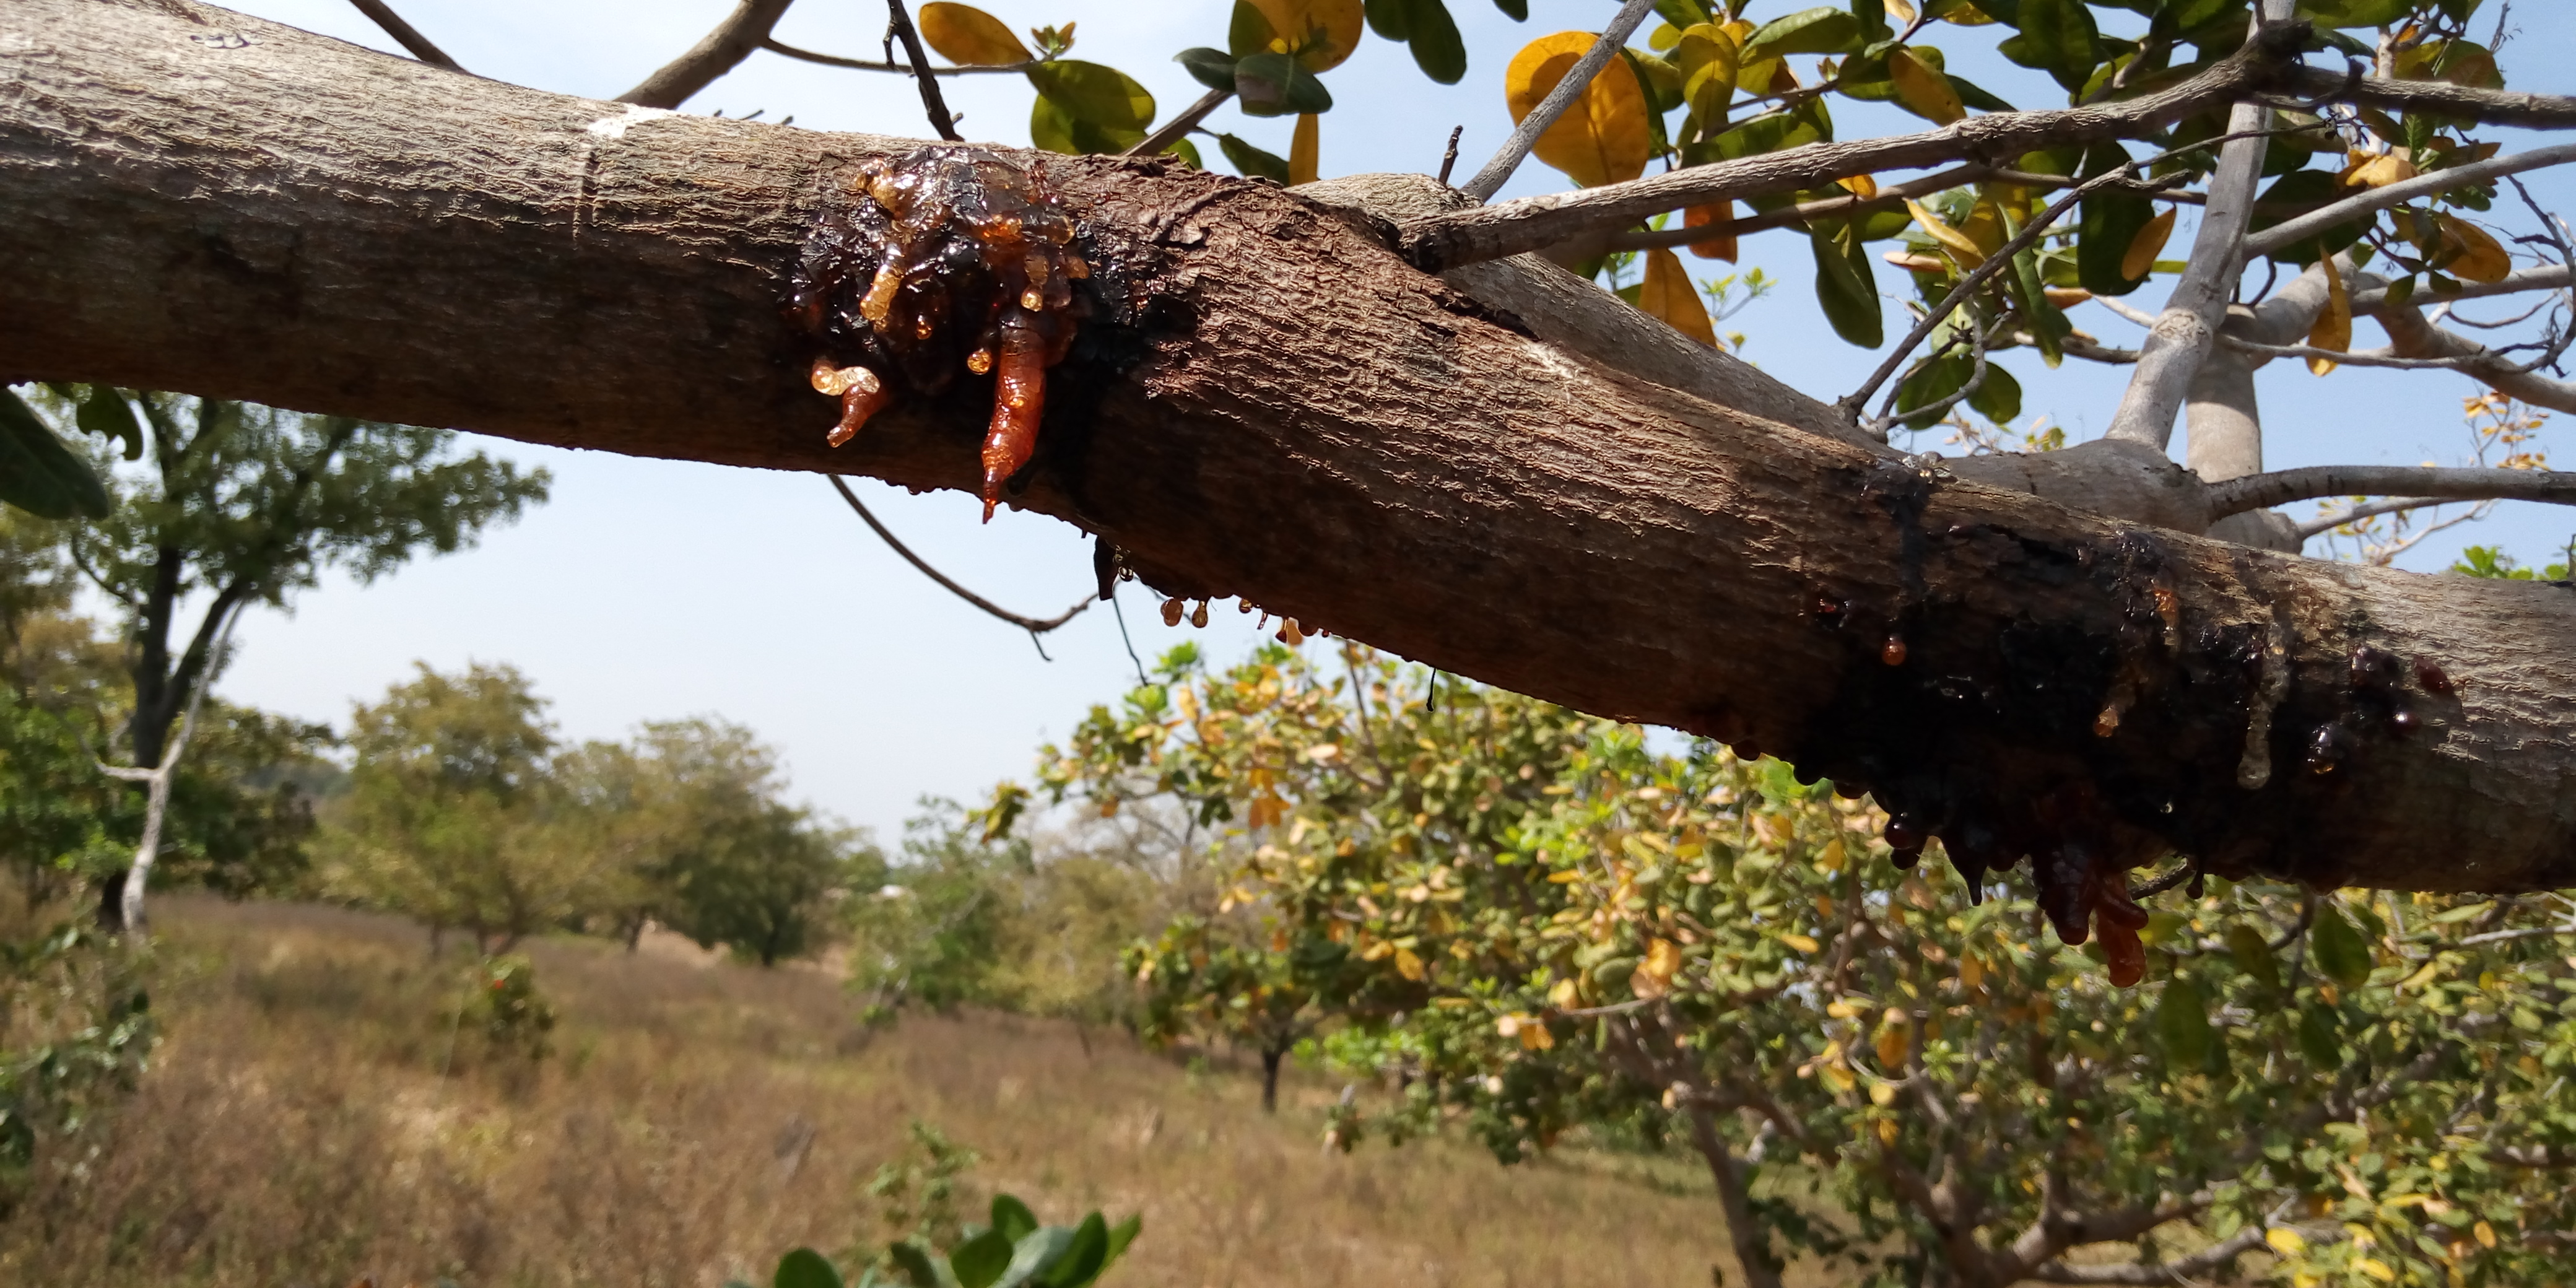Gommose: (1799, 445, 2405, 984), (769, 166, 1145, 509)
